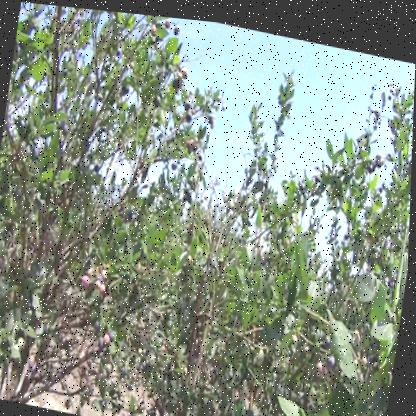intermediate: (94, 263, 113, 292), (79, 267, 95, 291), (104, 330, 115, 345), (318, 352, 328, 366)
mature: (329, 345, 339, 360)
young: (12, 332, 31, 373), (362, 346, 372, 362), (292, 326, 302, 339), (141, 344, 146, 353), (138, 352, 144, 359)
